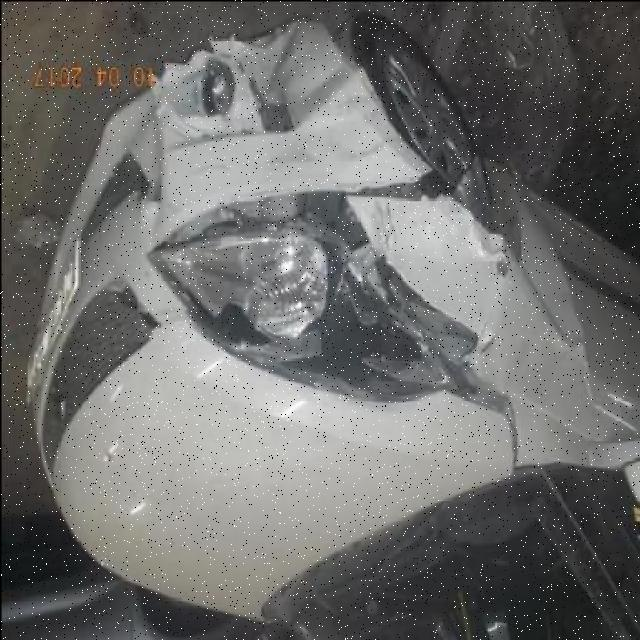damage: (132, 12, 527, 467), (142, 184, 483, 409)
